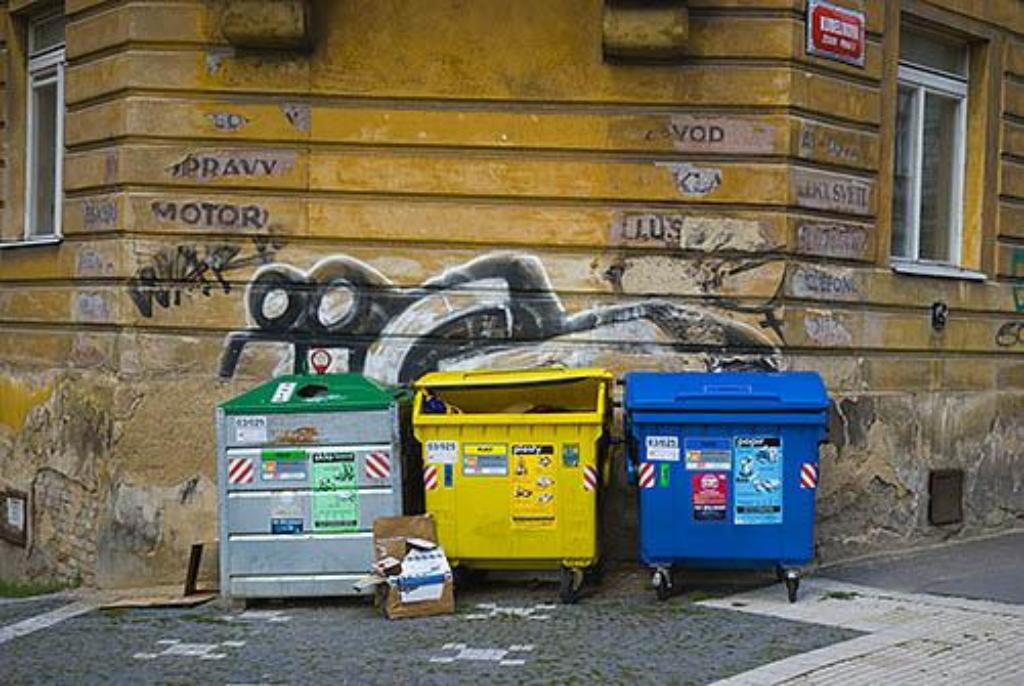dustbin: (606, 335, 842, 622), (216, 323, 409, 624), (392, 355, 621, 603)
